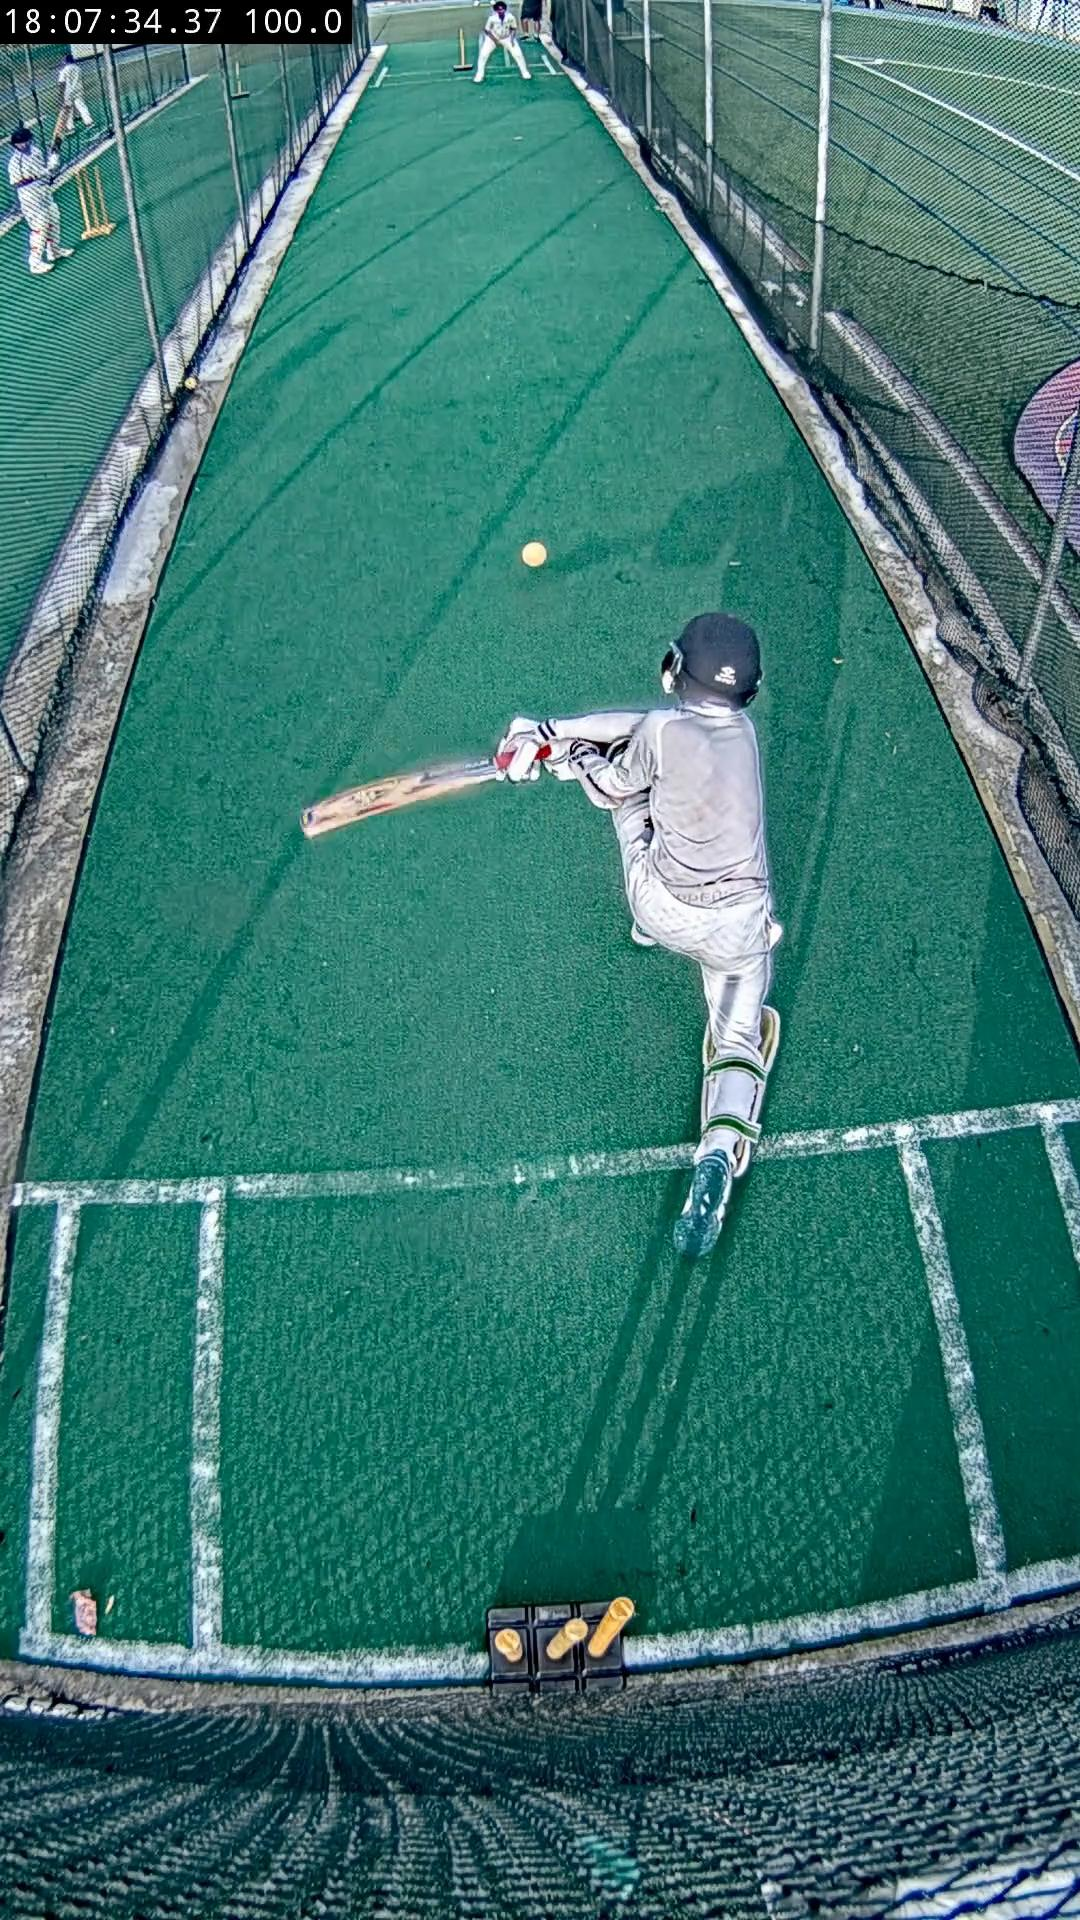ball: (521, 541, 547, 566)
bat: (301, 761, 498, 835)
gloves: (495, 716, 578, 783)
helmet: (663, 612, 761, 708)
stumps: (488, 1597, 634, 1695)
